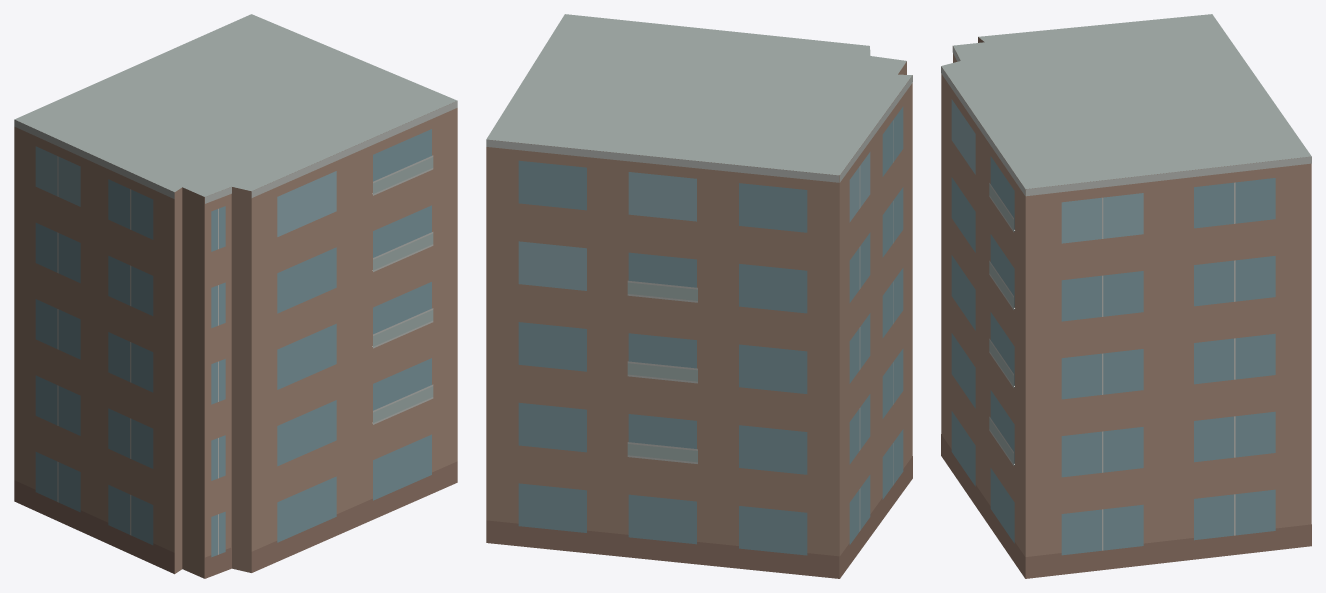
File: survey-upis-33023184.glb
The picture shows the model from 3 angles, left to right: view 1: azimuth 30°, elevation 25°; view 2: azimuth 150°, elevation 25°; view 3: azimuth 270°, elevation 25°; orthographic projection. The views are drawn at different scales.
Visible parts, largest first — view 1: survey-upis-33023184.tmp; view 2: survey-upis-33023184.tmp; view 3: survey-upis-33023184.tmp.
Part boxes in pixels (box(x1,y1,x2,y2)): survey-upis-33023184.tmp: box(14, 14, 457, 578); survey-upis-33023184.tmp: box(486, 14, 912, 578); survey-upis-33023184.tmp: box(941, 14, 1311, 578).
Size of the model in its own units: 12.83 by 13.3 by 11.48.
